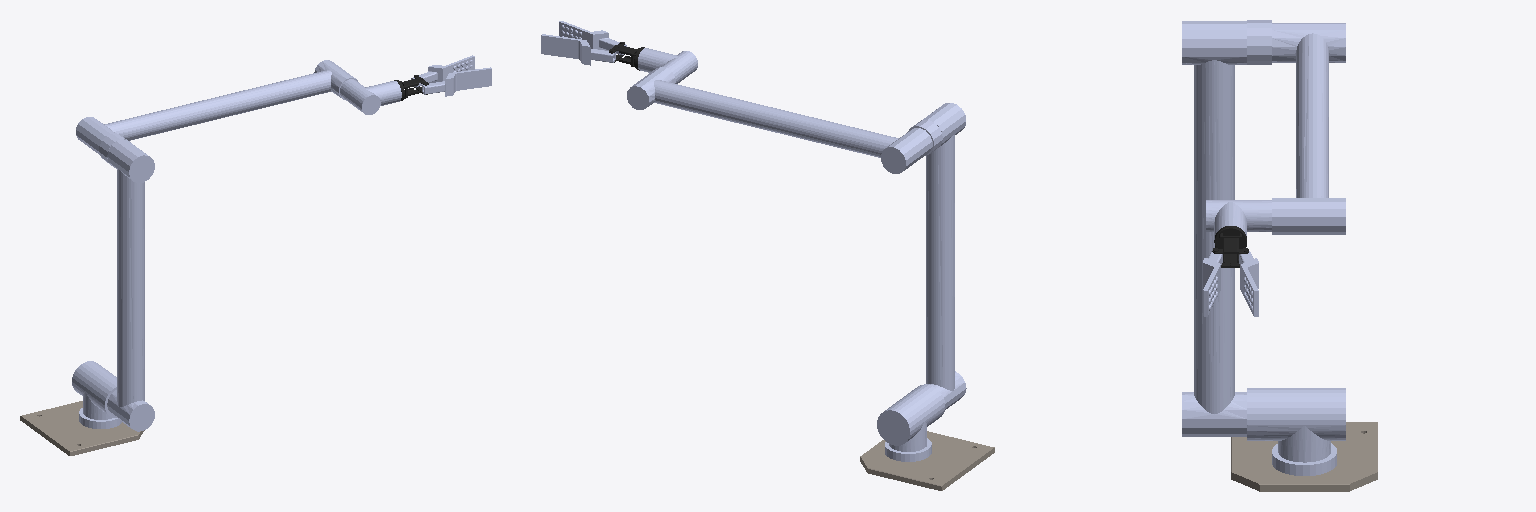
The robot description file, URDF, robot "arm_urdf":
<?xml version="1.0" encoding="utf-8"?>
<!-- This URDF was automatically created by SolidWorks to URDF Exporter! Originally created by [author] ([email redacted]) 
     Commit Version: 1.6.0-4-g7f85cfe  Build Version: 1.6.7995.38578
     For more information, please see http://wiki.ros.org/sw_urdf_exporter -->
<robot
  name="arm_urdf">
<link name="base_footprint">
    <visual>
        <origin xyz="0 0 0" rpy="0 0 0" />
        <geometry>
            <box size="0.001 0.001 0.001" />
        </geometry>
    </visual>
</link>

<joint name="base_footprint_joint" type="fixed">
    <origin xyz="0 0 0.001" rpy="0 0 0" />
    <parent link="base_footprint"/>
    <child link="base_link" />
</joint>
  <link
    name="base_link">
    <inertial>
      <origin
        xyz="-0.0292064837891756 1.03070798423976E-11 0.0077309438876114"
        rpy="0 0 0" />
      <mass
        value="2.5433833664806" />
      <inertia
        ixx="0.00628163463085114"
        ixy="2.26019615440288E-19"
        ixz="1.98730412004206E-05"
        iyy="0.00637258484633234"
        iyz="-1.40886315484363E-19"
        izz="0.0126050197334029" />
    </inertial>
    <visual>
      <origin
        xyz="0 0 0"
        rpy="0 0 0" />
      <geometry>
        <mesh
          filename="package://arm_urdf/meshes/visual/base_link.STL" />
      </geometry>
      <material
        name="">
        <color
          rgba="0.650980392156863 0.619607843137255 0.588235294117647 1" />
      </material>
    </visual>
    <collision>
      <origin
        xyz="0 0 0"
        rpy="0 0 0" />
      <geometry>
        <mesh
          filename="package://arm_urdf/meshes/visual/base_link.STL" />
      </geometry>
    </collision>
  </link>
  <link
    name="shldr_Link">
    <inertial>
      <origin
        xyz="9.29185044983016E-08 -0.00726683987372272 -0.0130827590649837"
        rpy="0 0 0" />
      <mass
        value="0.547968899396397" />
      <inertia
        ixx="0.000911442104513962"
        ixy="-3.38184624978878E-11"
        ixz="9.43198637195028E-13"
        iyy="0.000534320721116197"
        iyz="5.2094853471738E-05"
        izz="0.000696689325254328" />
    </inertial>
    <visual>
      <origin
        xyz="0 0 0"
        rpy="0 0 0" />
      <geometry>
        <mesh
          filename="package://arm_urdf/meshes/visual/shldr_Link.STL" />
      </geometry>
      <material
        name="">
        <color
          rgba="0.792156862745098 0.819607843137255 0.933333333333333 1" />
      </material>
    </visual>
    <collision>
      <origin
        xyz="0 0 0"
        rpy="0 0 0" />
      <geometry>
        <mesh
          filename="package://arm_urdf/meshes/visual/shldr_Link.STL" />
      </geometry>
    </collision>
  </link>
  <joint
    name="shldr_Joint"
    type="revolute">
    <origin
      xyz="0 0 0.078"
      rpy="0 0 0" />
    <parent
      link="base_link" />
    <child
      link="shldr_Link" />
    <axis
      xyz="0 0 1" />
    <limit
      lower="-3.142"
      upper="3.142"
      effort="400"
      velocity="2" />
  </joint>
  <link
    name="uarm_Link">
    <inertial>
      <origin
        xyz="-1.33818128827956E-07 0.250000006515255 1.99640421555403E-08"
        rpy="0 0 0" />
      <mass
        value="1.26674905761263" />
      <inertia
        ixx="0.0392454061401057"
        ixy="-1.15832267774499E-08"
        ixz="1.7285737985885E-09"
        iyy="0.000553103031324755"
        iyz="1.59021896893996E-09"
        izz="0.0391174058860417" />
    </inertial>
    <visual>
      <origin
        xyz="0 0 0"
        rpy="0 0 0" />
      <geometry>
        <mesh
          filename="package://arm_urdf/meshes/visual/uarm_Link.STL" />
      </geometry>
      <material
        name="">
        <color
          rgba="0.792156862745098 0.819607843137255 0.933333333333333 1" />
      </material>
    </visual>
    <collision>
      <origin
        xyz="0 0 0"
        rpy="0 0 0" />
      <geometry>
        <mesh
          filename="package://arm_urdf/meshes/visual/uarm_Link.STL" />
      </geometry>
    </collision>
  </link>
  <joint
    name="uarm_Joint"
    type="revolute">
    <origin
      xyz="0 -0.110000000000001 0"
      rpy="1.5707963267949 0 0" />
    <parent
      link="shldr_Link" />
    <child
      link="uarm_Link" />
    <axis
      xyz="0 0 1" />
    <limit
      lower="-1.57"
      upper="1.57"
      effort="300"
      velocity="2" />
  </joint>
  <link
    name="larm_Link">
    <inertial>
      <origin
        xyz="-7.73160084843738E-08 0.223699510365731 0.00645354848668905"
        rpy="0 0 0" />
      <mass
        value="0.965720738719143" />
      <inertia
        ixx="0.0343996252283292"
        ixy="4.33113296467829E-08"
        ixz="-1.37903031139222E-09"
        iyy="0.00066469893618089"
        iyz="0.00103626732122399"
        izz="0.0339695103321179" />
    </inertial>
    <visual>
      <origin
        xyz="0 0 0"
        rpy="0 0 0" />
      <geometry>
        <mesh
          filename="package://arm_urdf/meshes/visual/larm_Link.STL" />
      </geometry>
      <material
        name="">
        <color
          rgba="0.792156862745098 0.819607843137255 0.933333333333333 1" />
      </material>
    </visual>
    <collision>
      <origin
        xyz="0 0 0"
        rpy="0 0 0" />
      <geometry>
        <mesh
          filename="package://arm_urdf/meshes/visual/larm_Link.STL" />
      </geometry>
    </collision>
  </link>
  <joint
    name="larm_Joint"
    type="revolute">
    <origin
      xyz="0 0.5 -0.12"
      rpy="0 0 -1.5707963267949" />
    <parent
      link="uarm_Link" />
    <child
      link="larm_Link" />
    <axis
      xyz="0 0 -1" />
    <limit
      lower="-4.5"
      upper="1.4"
      effort="300"
      velocity="2" />
  </joint>
  <link
    name="wrist_Link">
    <inertial>
      <origin
        xyz="-8.52725409172805E-08 0.0172901666757576 -0.00601400690219769"
        rpy="0 0 0" />
      <mass
        value="0.16716236671567" />
      <inertia
        ixx="0.000165624520780463"
        ixy="4.58227920825603E-11"
        ixz="1.82563616581528E-11"
        iyy="8.12875362367742E-05"
        iyz="-1.73820838865349E-05"
        izz="0.000118622681045282" />
    </inertial>
    <visual>
      <origin
        xyz="0 0 0"
        rpy="0 0 0" />
      <geometry>
        <mesh
          filename="package://arm_urdf/meshes/visual/wrist_Link.STL" />
      </geometry>
      <material
        name="">
        <color
          rgba="0.792156862745098 0.819607843137255 0.933333333333333 1" />
      </material>
    </visual>
    <collision>
      <origin
        xyz="0 0 0"
        rpy="0 0 0" />
      <geometry>
        <mesh
          filename="package://arm_urdf/meshes/visual/wrist_Link.STL" />
      </geometry>
    </collision>
  </link>
  <joint
    name="wrist_Joint"
    type="revolute">
    <origin
      xyz="0 0.5 0.1"
      rpy="0 0 0" />
    <parent
      link="larm_Link" />
    <child
      link="wrist_Link" />
    <axis
      xyz="0 0 -1" />
    <limit
      lower="-3.142"
      upper="3.142"
      effort="200"
      velocity="2" />
  </joint>
  <link
    name="grpbass_Link">
    <inertial>
      <origin
        xyz="-4.01316100507032E-05 -0.000357188529745089 -0.0105954167816413"
        rpy="0 0 0" />
      <mass
        value="0.012392138493227" />
      <inertia
        ixx="1.71847797446363E-06"
        ixy="-1.27640907708762E-10"
        ixz="-6.75941559152676E-10"
        iyy="1.74594896420552E-06"
        iyz="-2.20155538419299E-08"
        izz="2.28626810002326E-06" />
    </inertial>
    <visual>
      <origin
        xyz="0 0 0"
        rpy="0 0 0" />
      <geometry>
        <mesh
          filename="package://arm_urdf/meshes/visual/grpbass_Link.STL" />
      </geometry>
      <material
        name="">
        <color
          rgba="0.2 0.2 0.2 1" />
      </material>
    </visual>
    <collision>
      <origin
        xyz="0 0 0"
        rpy="0 0 0" />
      <geometry>
        <mesh
          filename="package://arm_urdf/meshes/visual/grpbass_Link.STL" />
      </geometry>
    </collision>
  </link>
  <joint
    name="grpbass_Joint"
    type="revolute">
    <origin
      xyz="0 0.0769999999999944 0"
      rpy="1.5707963267949 1.5707963267949 0" />
    <parent
      link="wrist_Link" />
    <child
      link="grpbass_Link" />
    <axis
      xyz="0 0 1" />
    <limit
      lower="-3.142"
      upper="3.142"
      effort="200"
      velocity="2" />
  </joint>
  <link
    name="fngrR_Link">
    <inertial>
      <origin
        xyz="0.00708909138079242 0.0659054695280851 -0.000206436969597545"
        rpy="0 0 0" />
      <mass
        value="0.032818259969324" />
      <inertia
        ixx="4.01008764613634E-05"
        ixy="-4.96505976274912E-06"
        ixz="9.5678846667765E-09"
        iyy="4.36450856319505E-06"
        iyz="6.85285052330905E-08"
        izz="3.86816595368864E-05" />
    </inertial>
    <visual>
      <origin
        xyz="0 0 0"
        rpy="0 0 0" />
      <geometry>
        <mesh
          filename="package://arm_urdf/meshes/visual/fngrR_Link.STL" />
      </geometry>
      <material
        name="">
        <color
          rgba="0.792156862745098 0.819607843137255 0.933333333333333 1" />
      </material>
    </visual>
    <collision>
      <origin
        xyz="0 0 0"
        rpy="0 0 0" />
      <geometry>
        <mesh
          filename="package://arm_urdf/meshes/visual/fngrR_Link.STL" />
      </geometry>
    </collision>
  </link>
  <joint
    name="fngrR_Joint"
    type="revolute">
    <origin
      xyz="-0.0179999999866297 0.000875000000095771 -0.0449999999877976"
      rpy="-1.5707963267949 0.186273469161353 0" />
    <parent
      link="grpbass_Link" />
    <child
      link="fngrR_Link" />
    <axis
      xyz="0 0 -1" />
    <limit
      lower="-0.062"
      upper="0"
      effort="200"
      velocity="2" />
    <mimic
      joint="fngrL_Joint"
      multiplier="-1"
      offset="0" />
  </joint>
  <link
    name="fngrL_Link">
    <inertial>
      <origin
        xyz="-0.00708909134419022 0.0659054694872668 0.000206436980062508"
        rpy="0 0 0" />
      <mass
        value="0.0328182600182939" />
      <inertia
        ixx="4.01008764865379E-05"
        ixy="4.96505977098165E-06"
        ixz="9.56788167092588E-09"
        iyy="4.36450856603979E-06"
        iyz="-6.85284983057251E-08"
        izz="3.86816595609957E-05" />
    </inertial>
    <visual>
      <origin
        xyz="0 0 0"
        rpy="0 0 0" />
      <geometry>
        <mesh
          filename="package://arm_urdf/meshes/visual/fngrL_Link.STL" />
      </geometry>
      <material
        name="">
        <color
          rgba="0.792156862745098 0.819607843137255 0.933333333333333 1" />
      </material>
    </visual>
    <collision>
      <origin
        xyz="0 0 0"
        rpy="0 0 0" />
      <geometry>
        <mesh
          filename="package://arm_urdf/meshes/visual/fngrL_Link.STL" />
      </geometry>
    </collision>
  </link>
  <joint
    name="fngrL_Joint"
    type="revolute">
    <origin
      xyz="0.0179999999873413 0.000874999999837534 -0.0449999999992026"
      rpy="-1.5707963267949 -0.186273469161356 0" />
    <parent
      link="grpbass_Link" />
    <child
      link="fngrL_Link" />
    <axis
      xyz="0 0 -1" />
    <limit
      lower="0"
      upper="0.062"
      effort="200"
      velocity="2" />
  </joint>
</robot>

--- Facts derived from the render (not from the file) ---
Views: 3 orthographic renders of the robot side by side, from view 1: azimuth 30°, elevation 25°; view 2: azimuth 150°, elevation 25°; view 3: azimuth 270°, elevation 25°.
Model arm_urdf with 9 links and 8 joints (7 revolute, 1 fixed), rooted at base_footprint, posed all joints at 0.
Links seen in each view (by area): view 1: uarm_Link, larm_Link, base_link, shldr_Link, wrist_Link, fngrR_Link, fngrL_Link; view 2: larm_Link, uarm_Link, base_link, shldr_Link, fngrL_Link, wrist_Link, fngrR_Link; view 3: uarm_Link, larm_Link, shldr_Link, base_link, wrist_Link, grpbass_Link, fngrL_Link, fngrR_Link.
Link boxes in pixels (x1,y1,x2,y2): uarm_Link: [107, 139, 154, 431]; larm_Link: [76, 60, 357, 164]; base_link: [20, 401, 144, 455]; shldr_Link: [72, 361, 121, 428]; wrist_Link: [340, 79, 401, 114]; fngrR_Link: [422, 67, 491, 96]; fngrL_Link: [411, 55, 474, 87]; larm_Link: [627, 67, 942, 173]; uarm_Link: [921, 103, 966, 409]; base_link: [860, 431, 994, 490]; shldr_Link: [877, 384, 944, 461]; fngrL_Link: [541, 34, 615, 65]; wrist_Link: [638, 48, 697, 83]; fngrR_Link: [559, 21, 626, 54]; uarm_Link: [1182, 21, 1246, 436]; larm_Link: [1247, 20, 1345, 234]; shldr_Link: [1247, 388, 1345, 475]; base_link: [1231, 422, 1377, 491]; wrist_Link: [1206, 200, 1271, 239]; grpbass_Link: [1212, 226, 1248, 267]; fngrL_Link: [1239, 251, 1258, 316]; fngrR_Link: [1203, 251, 1222, 316].
Bounding box of the posed robot: 0.8697 × 0.24 × 0.607 m (x, y, z).
Meshes: 8 distinct files referenced, 8 mesh visuals loaded (8 binary STL).